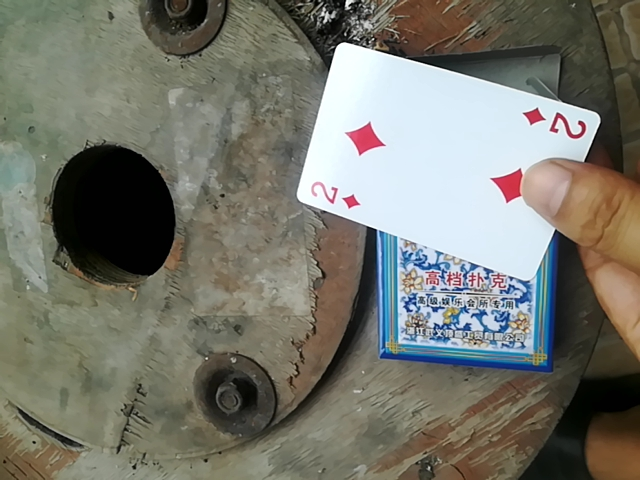fk 2: (287, 42, 609, 286)
